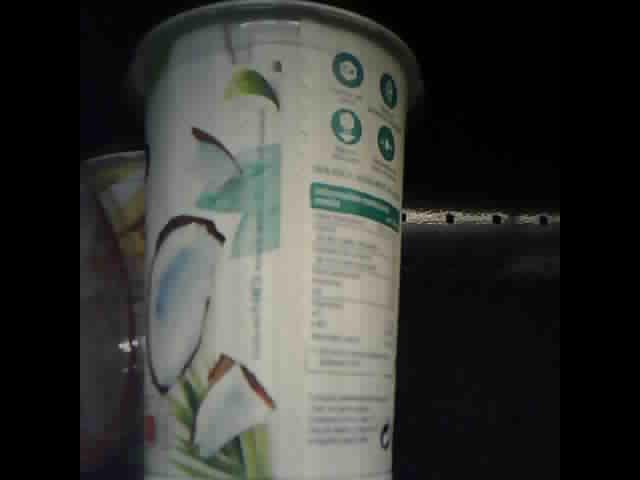alpro: (141, 2, 415, 480), (81, 146, 144, 441)
